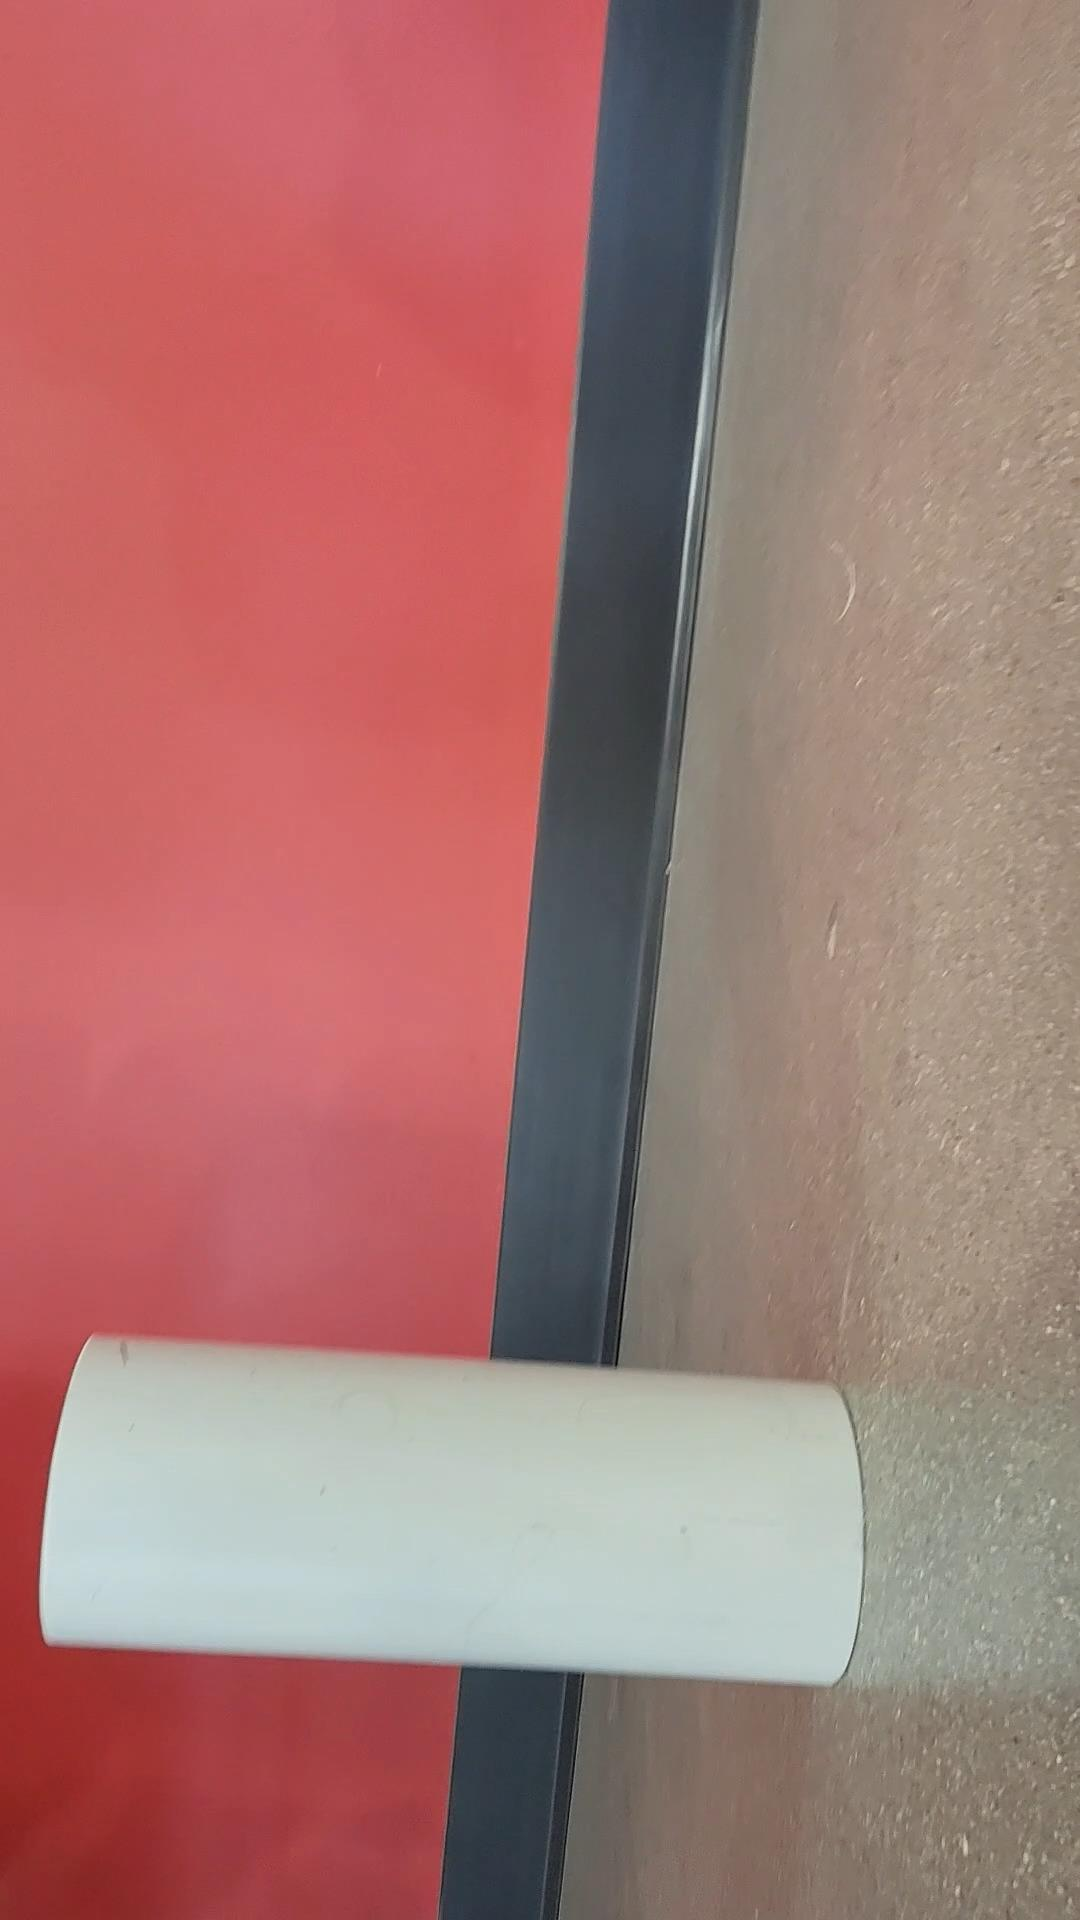coral: (36, 1331, 887, 1692)
